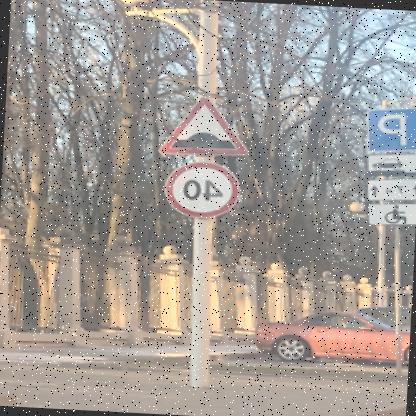speedlimit: (164, 160, 242, 219)
